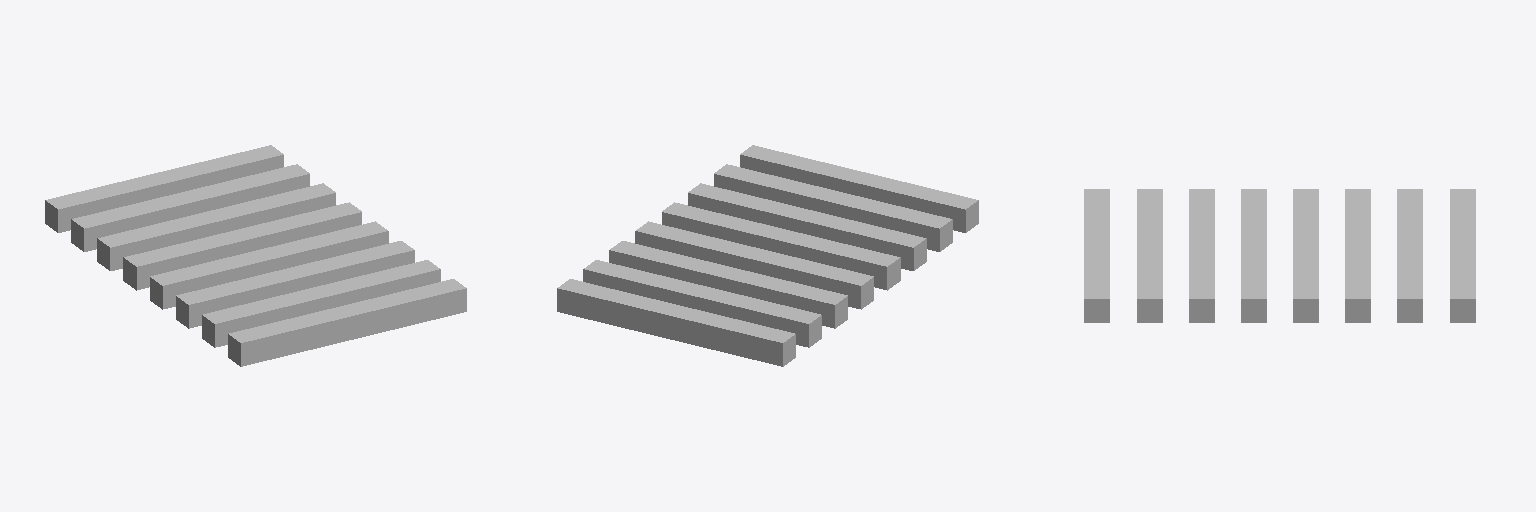
The model's file is conveyor belt 2.obj.
3 renders of one model, left to right at view 1: azimuth 30°, elevation 25°; view 2: azimuth 150°, elevation 25°; view 3: azimuth 270°, elevation 25°, orthographic.
Visible parts, largest first — view 1: conveyor belt 2; view 2: conveyor belt 2; view 3: conveyor belt 2.
Boxes of the visible parts, x1=… form: conveyor belt 2: x1=45, y1=145, x2=466, y2=366; conveyor belt 2: x1=557, y1=145, x2=978, y2=366; conveyor belt 2: x1=1084, y1=189, x2=1475, y2=322.
Bounding box in the file's own units: 10 × 1 × 15.